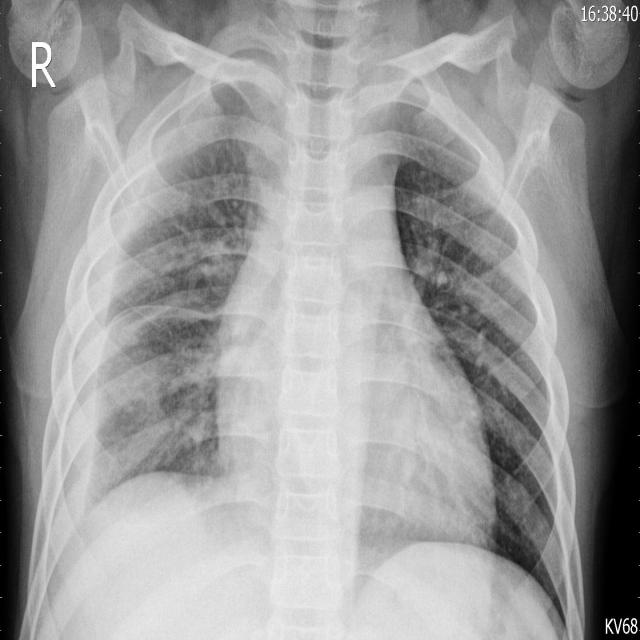low-pneumonia: (416, 181, 500, 365), (135, 88, 226, 248), (94, 305, 151, 485), (165, 336, 217, 447)
